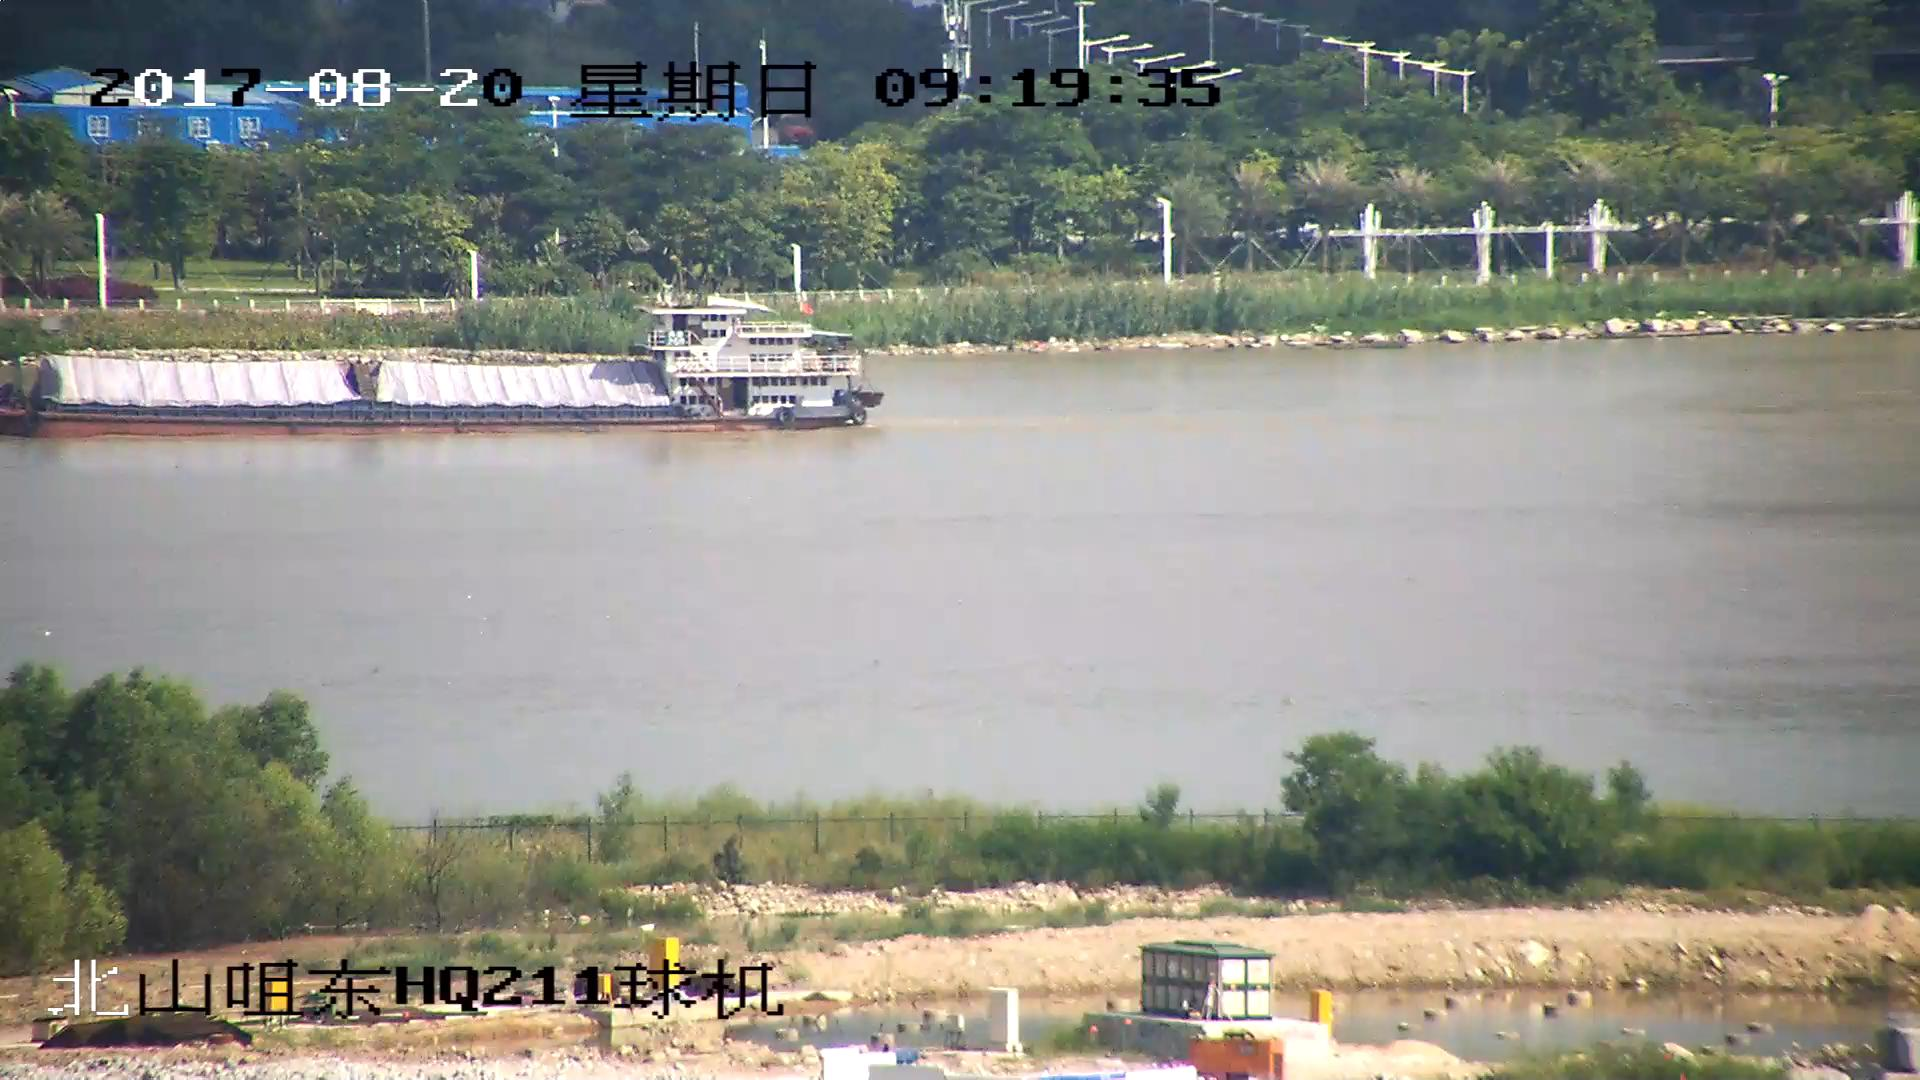general cargo ship: (1, 295, 875, 444)
